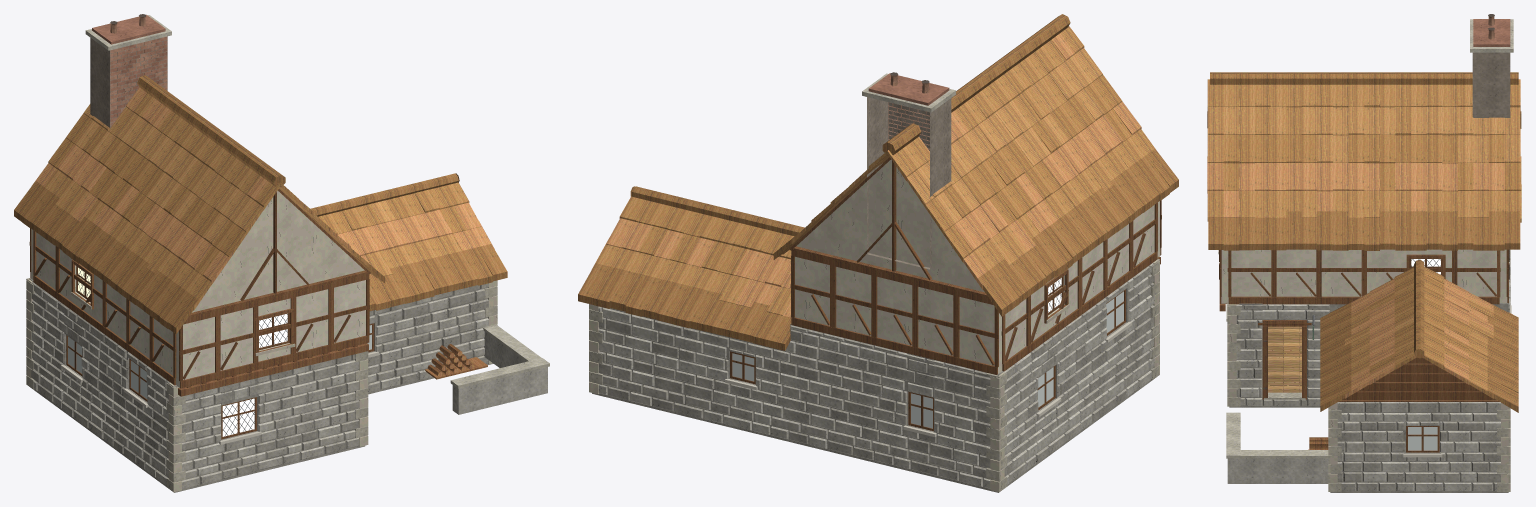
The model's file is kitchen-character.glb.
The picture shows the model from 3 angles, left to right: view 1: azimuth 30°, elevation 25°; view 2: azimuth 150°, elevation 25°; view 3: azimuth 270°, elevation 25°; orthographic projection. The views are drawn at different scales.
Visible parts, largest first — view 1: Kitchen_Roof_Thatch, Kitchen_Shell_Facing, Kitchen_UpperShell_Frame, Kitchen_Roof_Gables, Kitchen_Shell_Walls, Kitchen_Chimney_Stack, Kitchen_Court_Dressing, Kitchen_Shell_Quoins, Kitchen_Glazing_Windows, Kitchen_UpperShell_Glazing; view 2: Kitchen_Roof_Thatch, Kitchen_Shell_Facing, Kitchen_UpperShell_Frame, Kitchen_Roof_Gables, Kitchen_Shell_Walls, Kitchen_Chimney_Stack, Kitchen_Shell_Quoins, Kitchen_Glazing_Windows; view 3: Kitchen_Roof_Thatch, Kitchen_Shell_Facing, Kitchen_UpperShell_Frame, Kitchen_Court_Dressing, Kitchen_Shell_Walls, Kitchen_Chimney_Stack, Kitchen_Roof_StoreGable, Kitchen_Shell_Quoins, Kitchen_Floor_Flags, Kitchen_Glazing_Windows, Kitchen_Shell_DoorFrame.
Part boxes in pixels (x1,y1,x2,y2): Kitchen_Roof_Thatch: [14, 75, 507, 334]; Kitchen_Shell_Facing: [28, 282, 493, 488]; Kitchen_UpperShell_Frame: [29, 228, 369, 396]; Kitchen_Roof_Gables: [188, 189, 370, 317]; Kitchen_Shell_Walls: [29, 278, 493, 492]; Kitchen_Chimney_Stack: [85, 14, 171, 128]; Kitchen_Court_Dressing: [425, 325, 549, 414]; Kitchen_Shell_Quoins: [26, 278, 497, 492]; Kitchen_Glazing_Windows: [61, 323, 378, 444]; Kitchen_UpperShell_Glazing: [71, 266, 295, 356]; Kitchen_Roof_Thatch: [578, 14, 1178, 350]; Kitchen_Shell_Facing: [593, 263, 1157, 488]; Kitchen_UpperShell_Frame: [790, 200, 1161, 374]; Kitchen_Roof_Gables: [789, 157, 988, 297]; Kitchen_Shell_Walls: [592, 273, 1152, 492]; Kitchen_Chimney_Stack: [862, 72, 955, 269]; Kitchen_Shell_Quoins: [589, 259, 1159, 492]; Kitchen_Glazing_Windows: [725, 289, 1131, 437]; Kitchen_Roof_Thatch: [1207, 72, 1521, 412]; Kitchen_Shell_Facing: [1230, 250, 1510, 490]; Kitchen_UpperShell_Frame: [1219, 249, 1509, 311]; Kitchen_Court_Dressing: [1226, 315, 1328, 483]; Kitchen_Shell_Walls: [1229, 303, 1508, 492]; Kitchen_Chimney_Stack: [1470, 14, 1513, 117]; Kitchen_Roof_StoreGable: [1338, 357, 1499, 401]; Kitchen_Shell_Quoins: [1227, 250, 1510, 491]; Kitchen_Floor_Flags: [1268, 326, 1301, 392]; Kitchen_Glazing_Windows: [1226, 304, 1511, 457]; Kitchen_Shell_DoorFrame: [1258, 320, 1311, 399].
Bounding box in the file's own units: 12.88 × 11.1 × 9.35.
19 materials, 4 textured.
